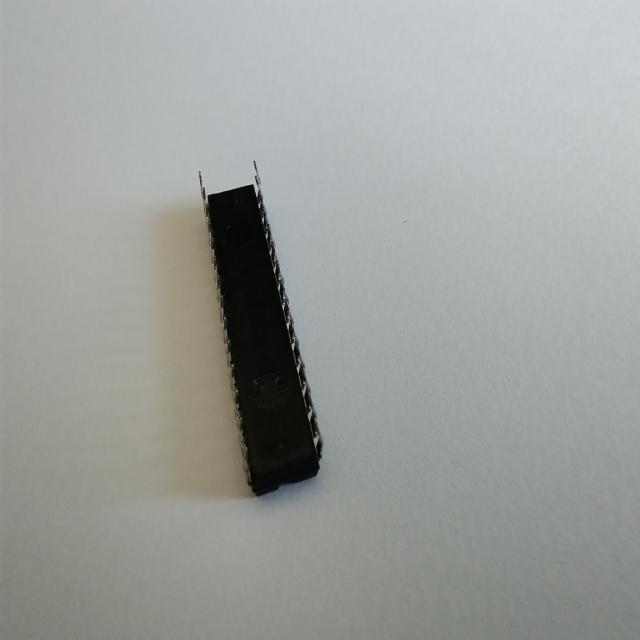atmega: (194, 159, 325, 498)
